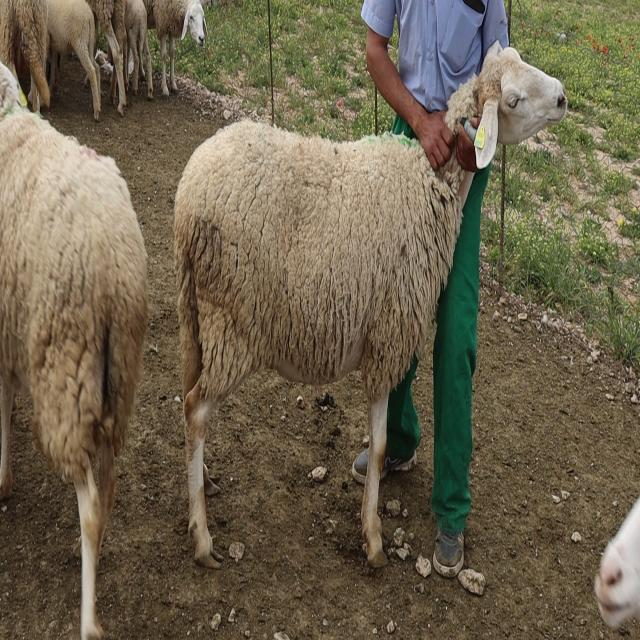Score_5: (174, 120, 474, 568)
